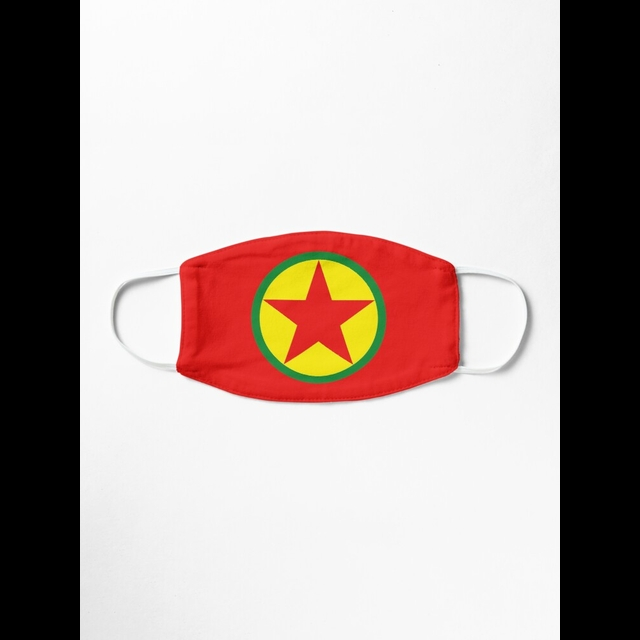PKK: (245, 249, 396, 388)
